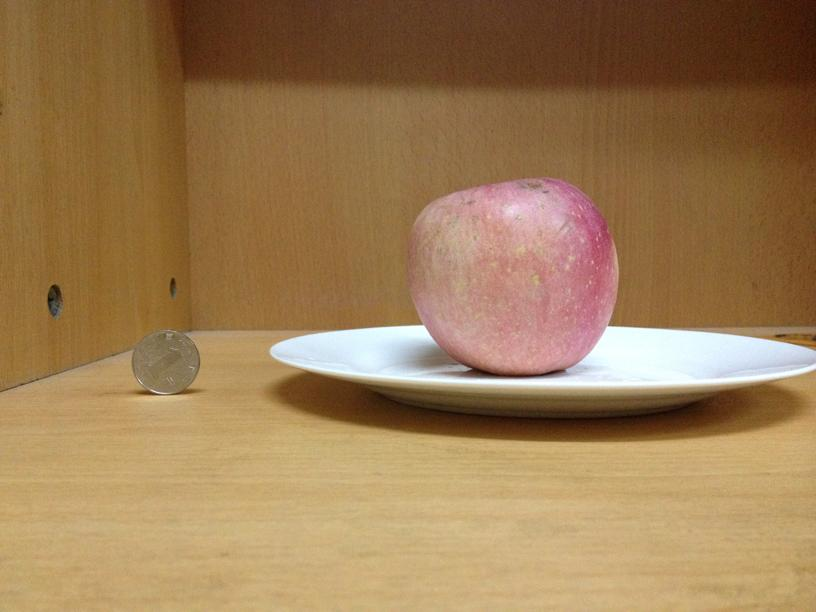apple: (408, 176, 620, 373)
coin: (130, 328, 199, 394)
